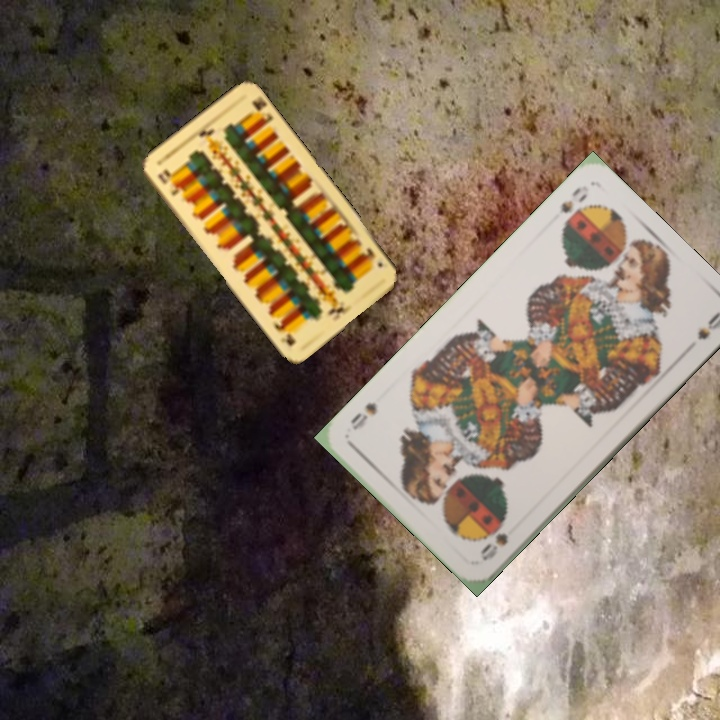E10: (154, 167, 181, 198), (359, 243, 385, 270)
SO: (556, 183, 590, 227), (476, 529, 511, 564)
